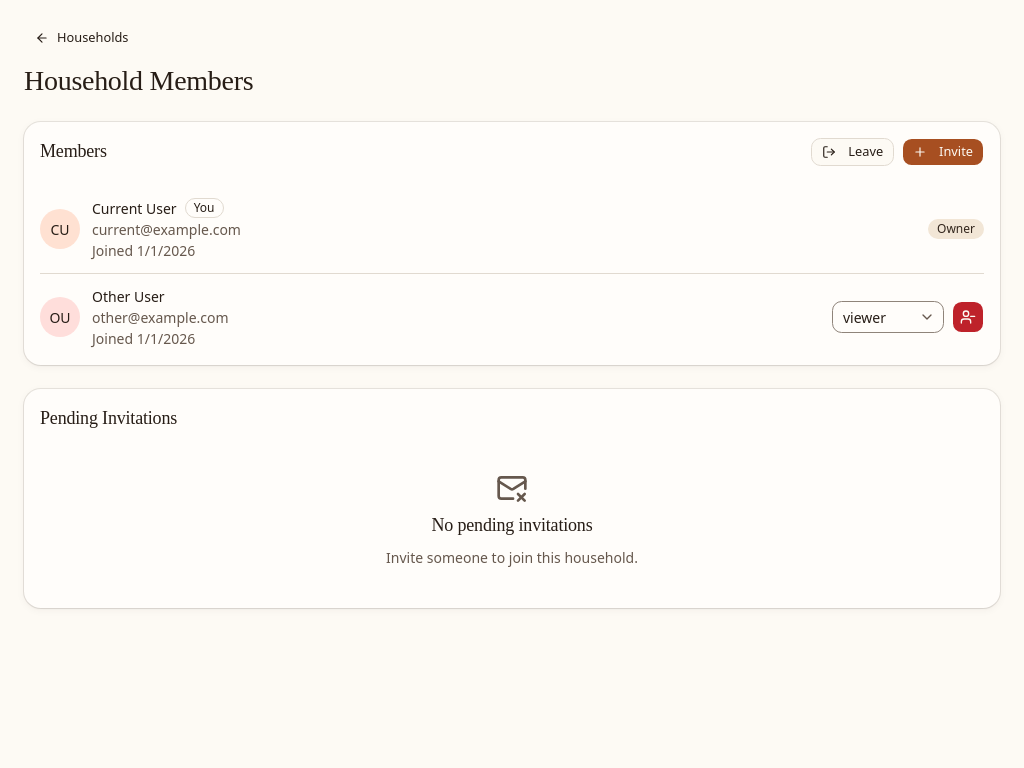
HouseholdMembersPage › closes the remove confirmation on cancel
This screenshot has width=1024, height=768.
Click the button named "Remove Other User" at [968, 317], box [952, 301, 984, 333]
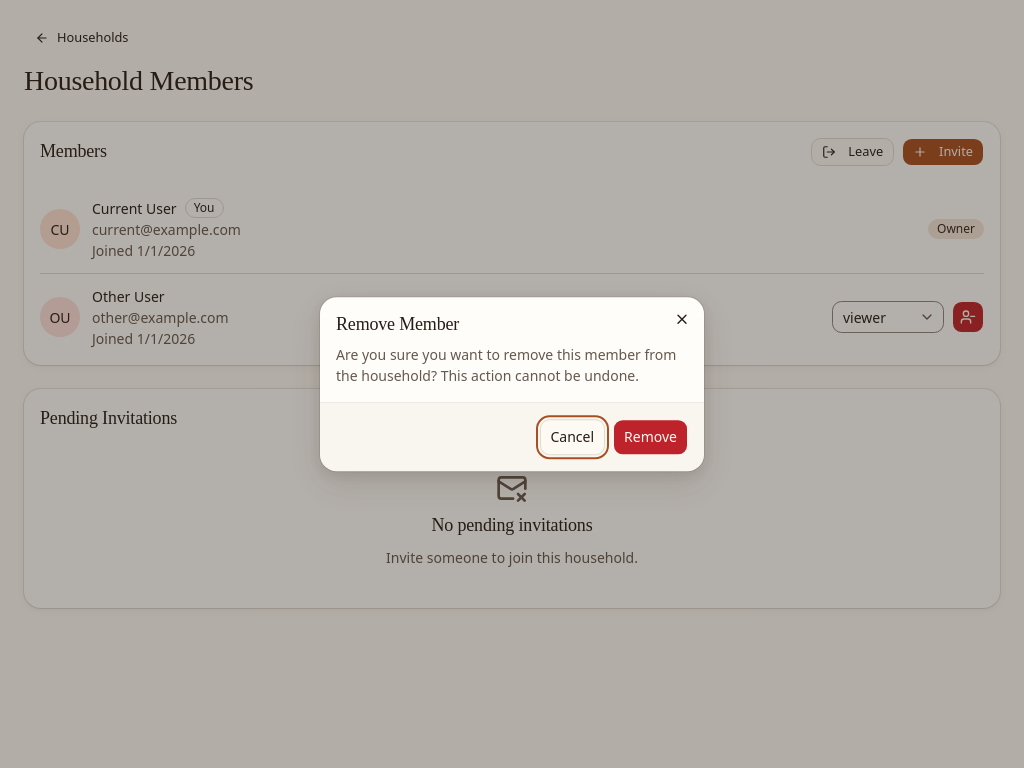
Click the button "Cancel" at [572, 437], box [540, 419, 605, 455]
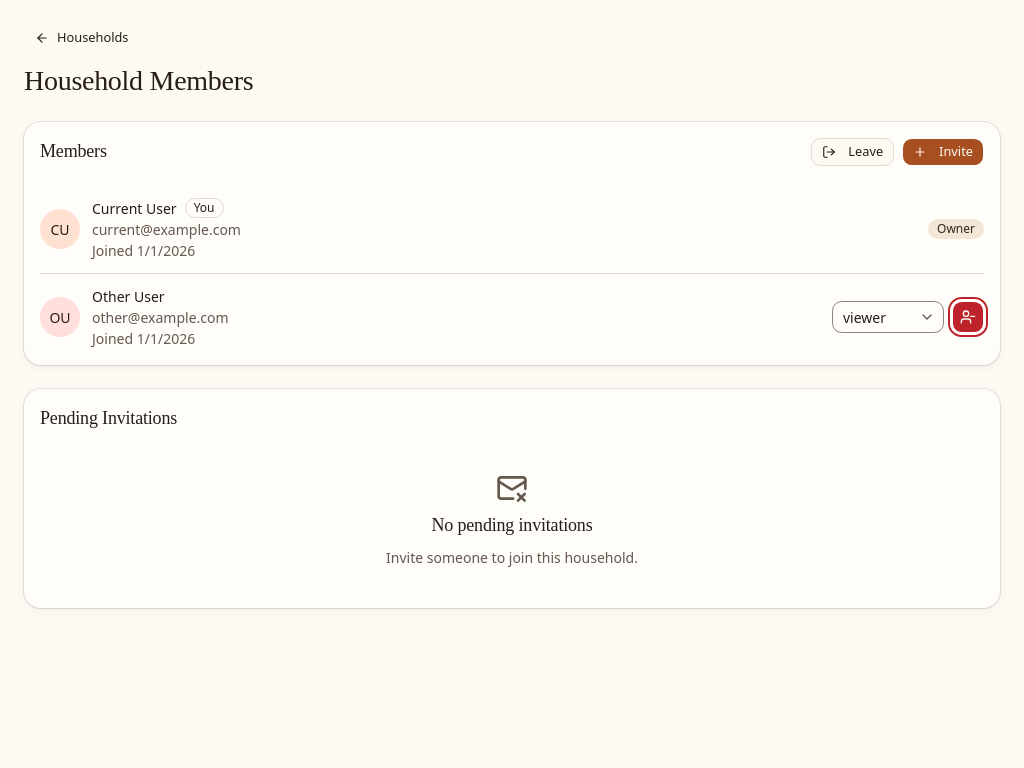
Check: the dialog is gone
